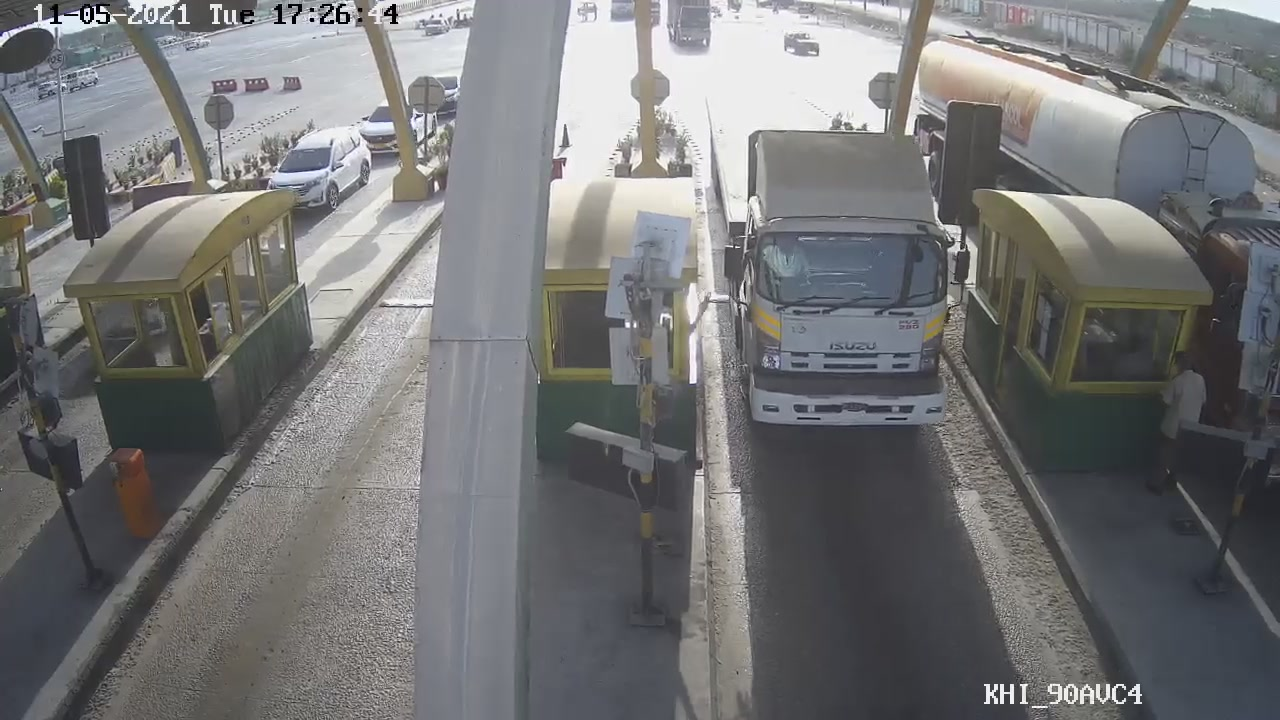F6: (697, 77, 979, 435)
